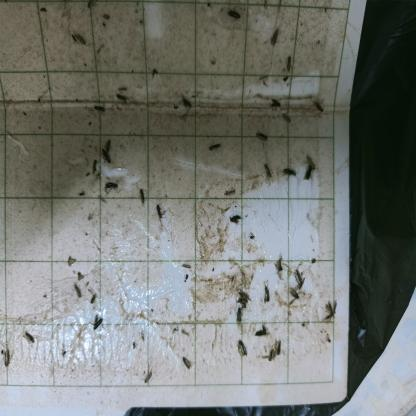prays_oleae: (179, 90, 196, 118), (21, 327, 40, 350), (71, 26, 87, 53), (267, 24, 282, 52), (207, 136, 225, 158), (226, 6, 243, 29), (234, 336, 249, 362), (284, 283, 300, 305), (266, 92, 284, 111), (114, 90, 131, 110), (91, 99, 107, 120), (312, 95, 326, 118), (180, 351, 196, 371), (254, 125, 268, 147), (324, 300, 338, 322), (90, 312, 104, 334), (102, 179, 121, 195), (154, 199, 166, 224), (282, 165, 299, 182), (262, 160, 274, 184), (87, 154, 99, 178), (71, 278, 83, 302), (222, 180, 236, 200), (254, 321, 270, 338), (227, 208, 242, 226), (137, 182, 147, 209), (234, 307, 246, 329), (100, 147, 113, 167), (273, 258, 284, 281), (264, 341, 275, 364), (140, 367, 154, 385), (234, 295, 247, 314), (238, 288, 251, 307), (262, 280, 271, 307), (1, 347, 13, 367), (304, 153, 318, 170), (284, 55, 296, 74), (303, 162, 313, 184), (88, 288, 99, 307), (274, 338, 283, 360), (291, 265, 304, 280), (281, 110, 293, 124), (104, 136, 114, 151), (75, 268, 87, 280), (297, 277, 307, 291), (77, 188, 86, 198), (249, 232, 256, 243), (325, 332, 332, 342)
